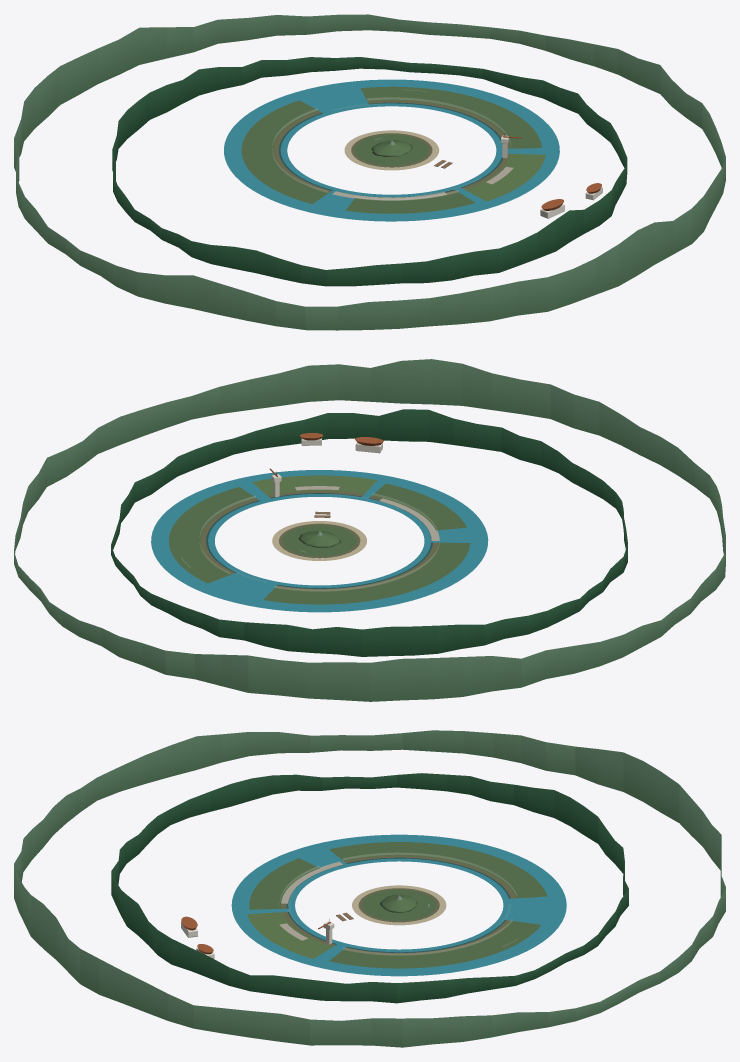
File: rowplay-venue-rower-medium.glb
3 views of the same model, one above another, from view 1: azimuth 30°, elevation 25°; view 2: azimuth 150°, elevation 25°; view 3: azimuth 270°, elevation 25° (orthographic).
Visible parts, largest first — view 1: environment:rower:horizon-far, environment:rower:horizon-mid, environment:rower:apron, environment:rower:grass-bank-3, environment:rower:grass-bank-2, environment:rower:grass-bank-1, environment:rower:grass-bank-4, environment:rower:island-lawn, environment:rower:island-beach, environment:rower:earth-bank-3, environment:rower:island-mound, environment:rower:earth-bank-2; view 2: environment:rower:horizon-far, environment:rower:horizon-mid, environment:rower:apron, environment:rower:grass-bank-3, environment:rower:grass-bank-2, environment:rower:grass-bank-1, environment:rower:grass-bank-4, environment:rower:island-lawn, environment:rower:island-beach, environment:rower:earth-bank-3; view 3: environment:rower:horizon-far, environment:rower:horizon-mid, environment:rower:apron, environment:rower:grass-bank-3, environment:rower:grass-bank-2, environment:rower:grass-bank-1, environment:rower:grass-bank-4, environment:rower:island-lawn, environment:rower:island-beach, environment:rower:earth-bank-3, environment:rower:earth-bank-2, environment:rower:island-mound.
Boxes of the visible parts, bbox=[...] form: environment:rower:horizon-far: bbox=[14, 14, 725, 330]; environment:rower:horizon-mid: bbox=[112, 57, 627, 286]; environment:rower:apron: bbox=[224, 79, 559, 221]; environment:rower:grass-bank-3: bbox=[241, 100, 328, 203]; environment:rower:grass-bank-2: bbox=[360, 86, 541, 148]; environment:rower:grass-bank-1: bbox=[346, 192, 475, 213]; environment:rower:grass-bank-4: bbox=[465, 153, 545, 201]; environment:rower:island-lawn: bbox=[355, 134, 428, 165]; environment:rower:island-beach: bbox=[344, 130, 439, 170]; environment:rower:earth-bank-3: bbox=[273, 111, 331, 199]; environment:rower:island-mound: bbox=[371, 140, 412, 156]; environment:rower:earth-bank-2: bbox=[367, 100, 523, 148]; environment:rower:horizon-far: bbox=[14, 359, 725, 701]; environment:rower:horizon-mid: bbox=[111, 409, 627, 656]; environment:rower:apron: bbox=[151, 470, 488, 612]; environment:rower:grass-bank-3: bbox=[263, 542, 470, 604]; environment:rower:grass-bank-2: bbox=[169, 487, 255, 583]; environment:rower:grass-bank-1: bbox=[372, 483, 466, 530]; environment:rower:grass-bank-4: bbox=[252, 475, 377, 495]; environment:rower:island-lawn: bbox=[282, 525, 356, 556]; environment:rower:island-beach: bbox=[272, 521, 366, 560]; environment:rower:earth-bank-3: bbox=[275, 542, 438, 591]; environment:rower:horizon-far: bbox=[14, 730, 725, 1047]; environment:rower:horizon-mid: bbox=[111, 773, 628, 1003]; environment:rower:apron: bbox=[231, 834, 566, 976]; environment:rower:grass-bank-3: bbox=[329, 842, 547, 898]; environment:rower:grass-bank-2: bbox=[329, 920, 541, 968]; environment:rower:grass-bank-1: bbox=[249, 858, 319, 909]; environment:rower:grass-bank-4: bbox=[247, 912, 332, 958]; environment:rower:island-lawn: bbox=[362, 889, 435, 920]; environment:rower:island-beach: bbox=[352, 885, 446, 925]; environment:rower:earth-bank-3: bbox=[331, 851, 541, 898]; environment:rower:earth-bank-2: bbox=[344, 920, 511, 955]; environment:rower:island-mound: bbox=[380, 894, 417, 913].
Bounding box in the file's own units: 231 × 16.33 × 234.
